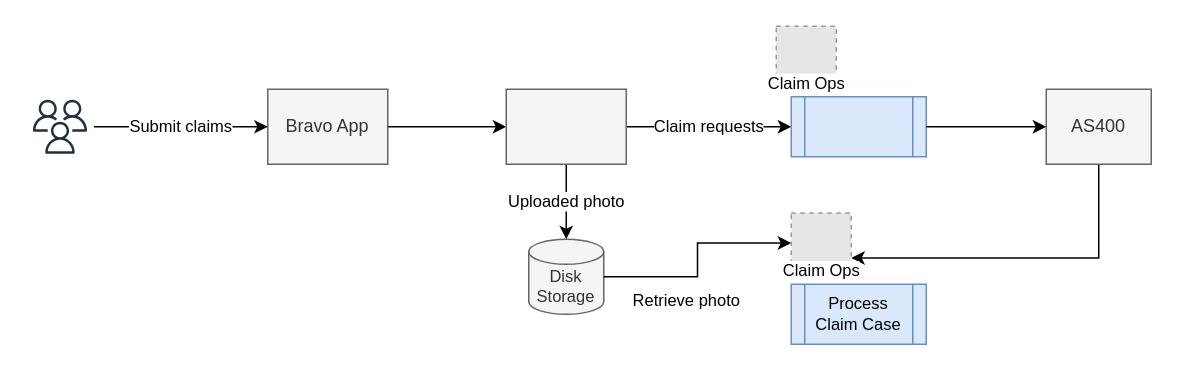
This 1178x371 diagram has some shape labels left out. Grey dashed boxes stand in for pictures. The centre of each missing label's shape, as x and y in pixels:
Bravo API: (565,126)
Customer: (59,126)
Register Claim Case: (858,126)
